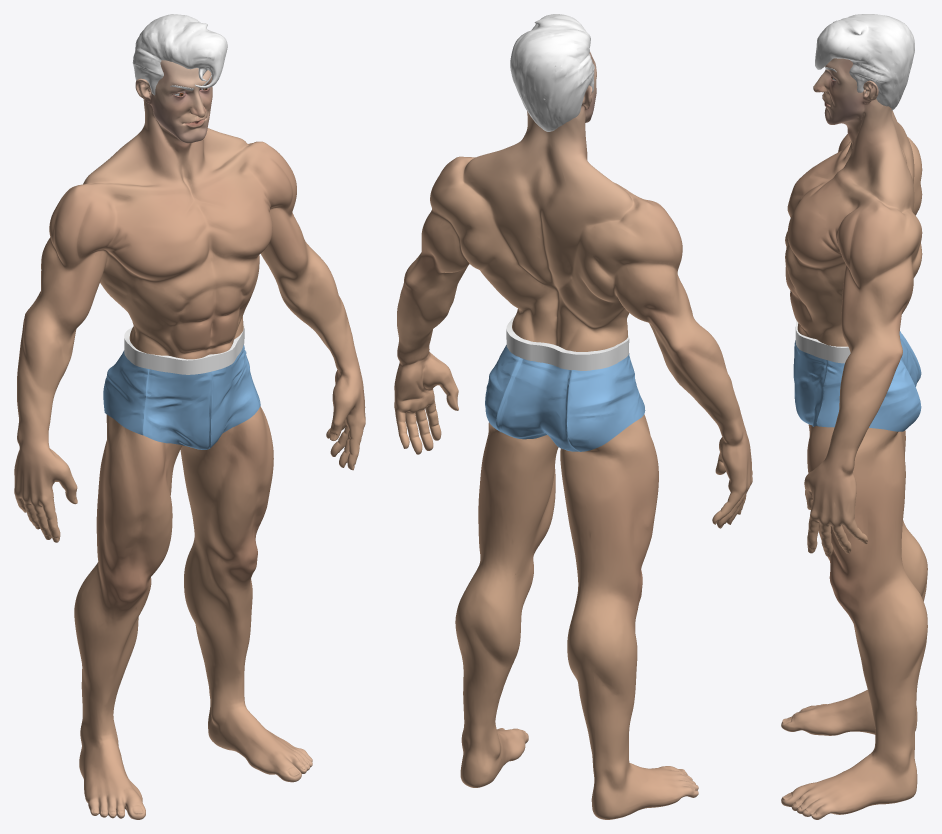
File: muscular_static.glb
The picture shows the model from 3 angles, left to right: view 1: azimuth 30°, elevation 25°; view 2: azimuth 150°, elevation 25°; view 3: azimuth 270°, elevation 25°; orthographic projection.
Visible parts, largest first — view 1: Body, Trunks, Hair; view 2: Body, Trunks, Hair; view 3: Body, Trunks, Hair.
Boxes of the visible parts, x1,y1,x2,y2 form: Body: [14, 60, 365, 819]; Trunks: [103, 324, 260, 449]; Hair: [132, 14, 227, 99]; Body: [394, 52, 752, 819]; Trunks: [485, 315, 645, 451]; Hair: [510, 14, 594, 131]; Body: [781, 58, 927, 819]; Trunks: [793, 320, 921, 431]; Hair: [815, 14, 914, 110].
Bounding box in the file's own units: 10.6 × 22.03 × 3.9.
